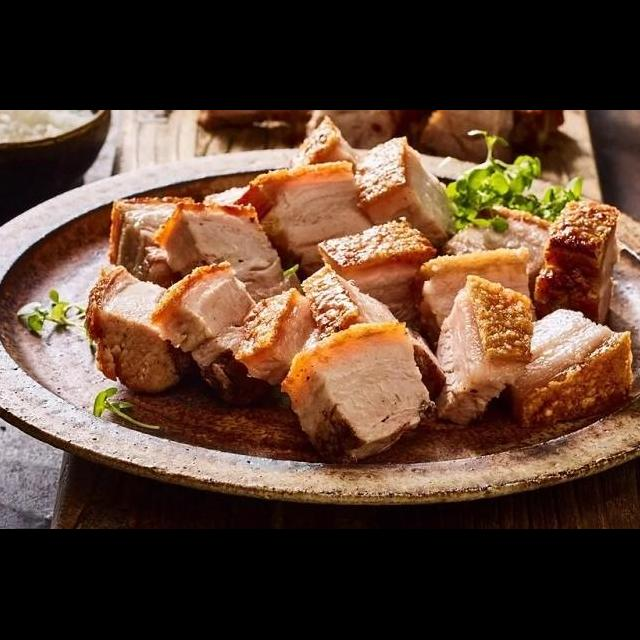thit heo quay: (275, 316, 442, 470), (294, 262, 450, 406), (224, 158, 385, 294), (149, 198, 309, 316), (426, 272, 541, 432), (500, 304, 637, 436), (146, 258, 268, 404), (79, 262, 207, 400), (315, 212, 443, 344), (524, 194, 625, 336), (347, 130, 464, 252), (438, 200, 567, 296), (102, 190, 212, 298), (230, 284, 326, 394)
